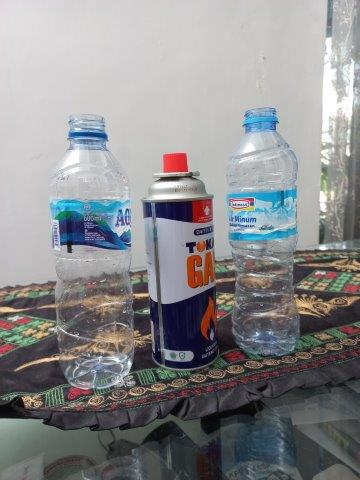botolplastik: (49, 113, 132, 387), (227, 107, 300, 355)
